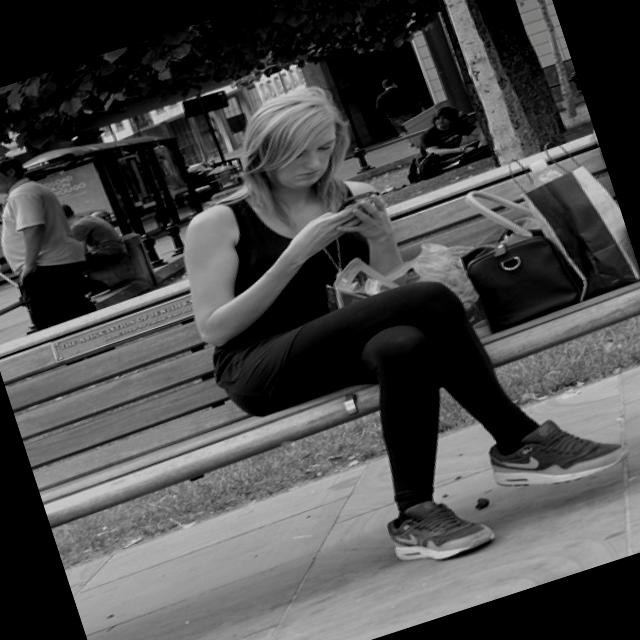Vehicle: (0, 186, 32, 284), (187, 152, 240, 188)
